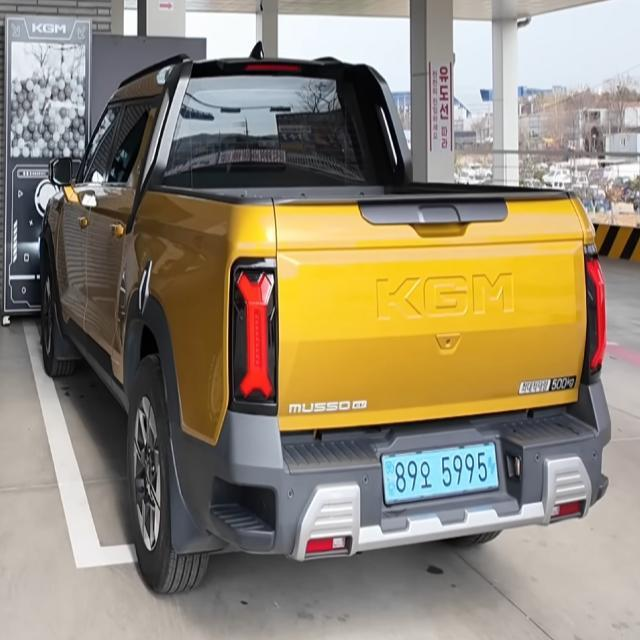car: (363, 430, 537, 517)
carev: (380, 452, 397, 504), (486, 439, 503, 489)
